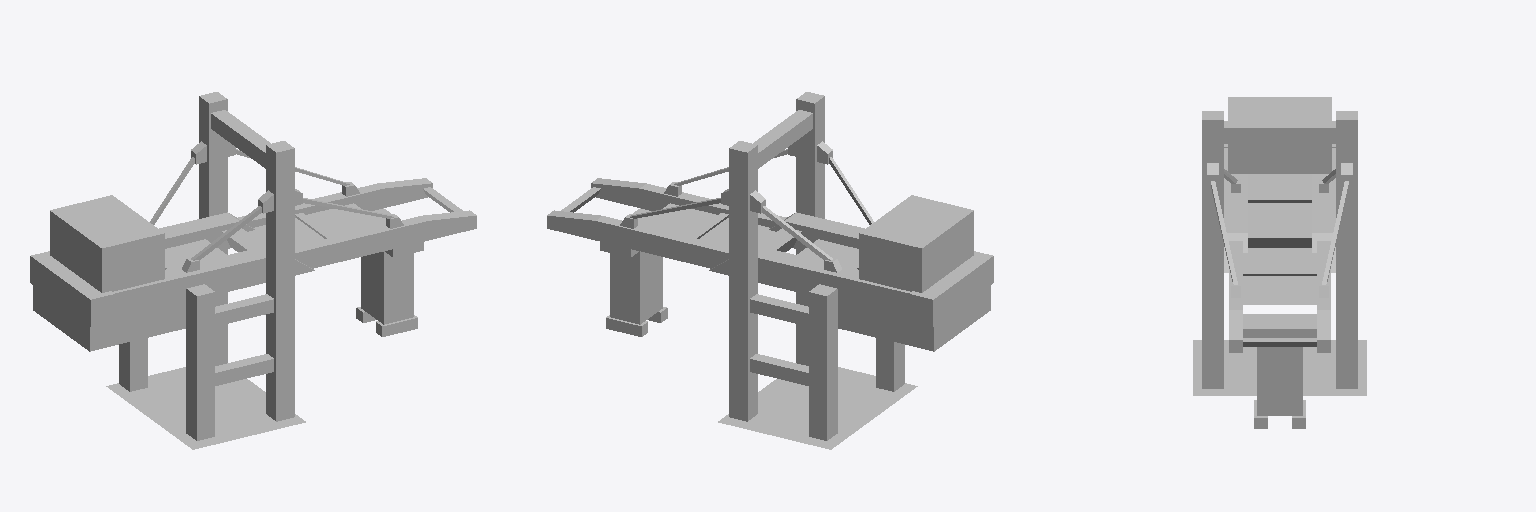
File: Driftveil City Crane.obj
The picture shows the model from 3 angles: view 1: azimuth 30°, elevation 25°; view 2: azimuth 150°, elevation 25°; view 3: azimuth 270°, elevation 25°; orthographic projection.
Parts seen in each view (by area): view 1: polygon2, polygon1, polygon0; view 2: polygon2, polygon1, polygon0; view 3: polygon2, polygon1, polygon0.
Boxes of the visible parts, <box> form: polygon2: <box>30,92,476,440</box>; polygon1: <box>33,195,417,351</box>; polygon0: <box>106,367,305,449</box>; polygon2: <box>547,92,993,440</box>; polygon1: <box>606,195,990,351</box>; polygon0: <box>718,367,917,449</box>; polygon2: <box>1202,111,1357,388</box>; polygon1: <box>1228,97,1331,428</box>; polygon0: <box>1193,340,1366,395</box>.
Size of the model in its own units: 250 by 166 by 96.19.